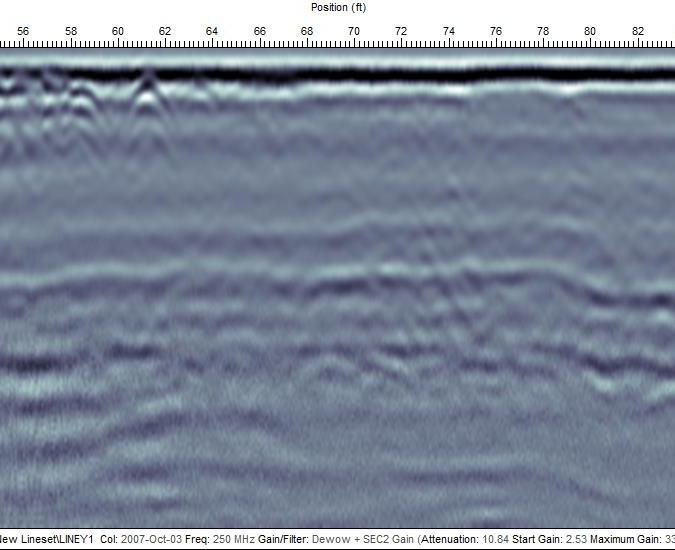Hyperbola: (119, 55, 177, 165), (44, 74, 106, 147)
